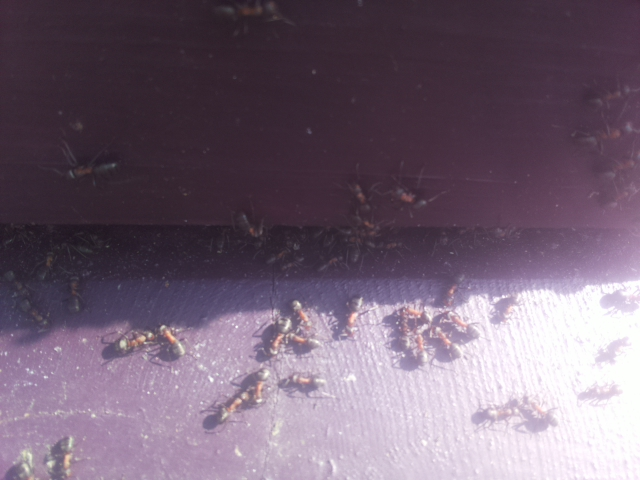ant: (53, 131, 125, 188), (0, 265, 53, 333), (202, 377, 263, 436), (38, 429, 83, 480), (105, 323, 162, 363), (384, 178, 431, 211), (157, 314, 188, 364), (229, 206, 268, 244), (487, 289, 522, 325), (33, 245, 61, 289), (429, 326, 460, 362), (446, 307, 477, 342), (440, 270, 467, 310), (268, 311, 290, 356), (344, 291, 367, 334), (63, 274, 86, 315), (290, 295, 312, 335), (408, 333, 433, 367), (285, 333, 325, 350)
